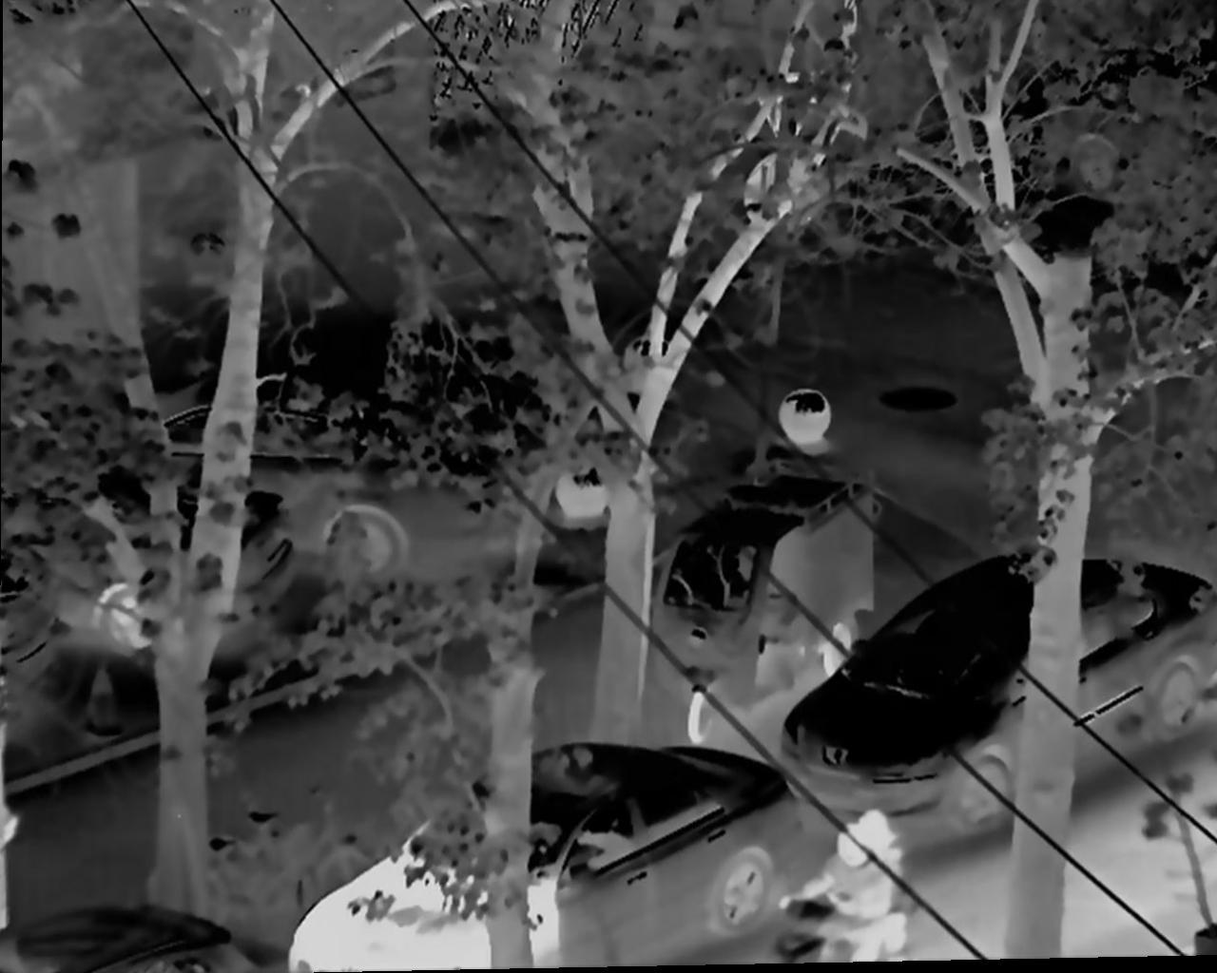person: (771, 803, 907, 956)
